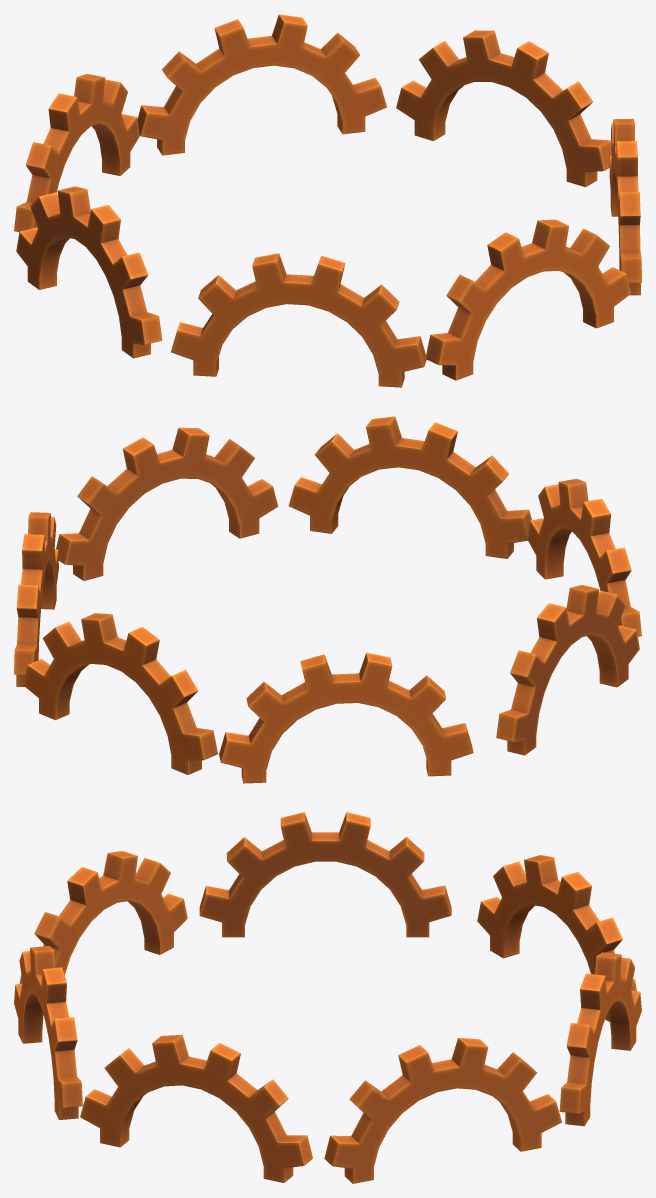
The model's file is obj_wheels01_base.gltf.
3 views of the same model, one above another, from view 1: azimuth 30°, elevation 25°; view 2: azimuth 150°, elevation 25°; view 3: azimuth 270°, elevation 25° (orthographic).
Visible parts, largest first — view 1: obj_wheels01_base; view 2: obj_wheels01_base; view 3: obj_wheels01_base.
Part boxes in pixels (left/top/right/bottom): obj_wheels01_base: left=14, top=14, right=641, bottom=387; obj_wheels01_base: left=14, top=416, right=641, bottom=783; obj_wheels01_base: left=14, top=812, right=641, bottom=1183.
Size of what is drawn, in the model's own units: 1.85 by 0.3894 by 1.9.
Materials: 1 (1 with a texture image).
